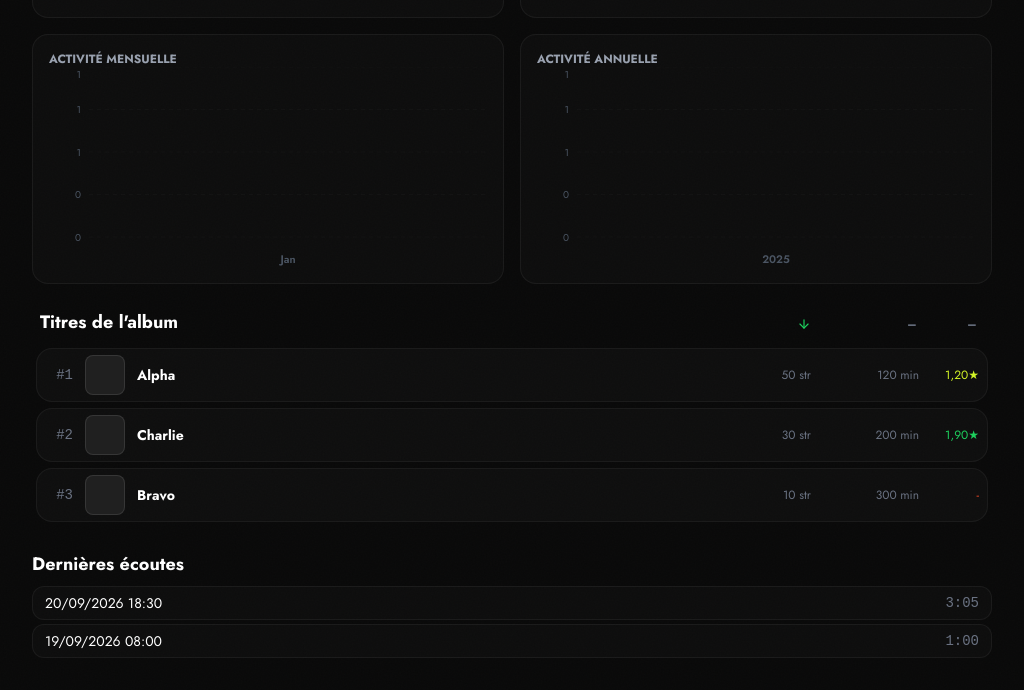
ItemDetailPage – listes › tri des listes › un autre tri remet le bouton précédent à un tiret
(page scrolled)
Step 1. Click the button named "Trier par temps d'écoute" → (912, 324), box [900,312,924,336]
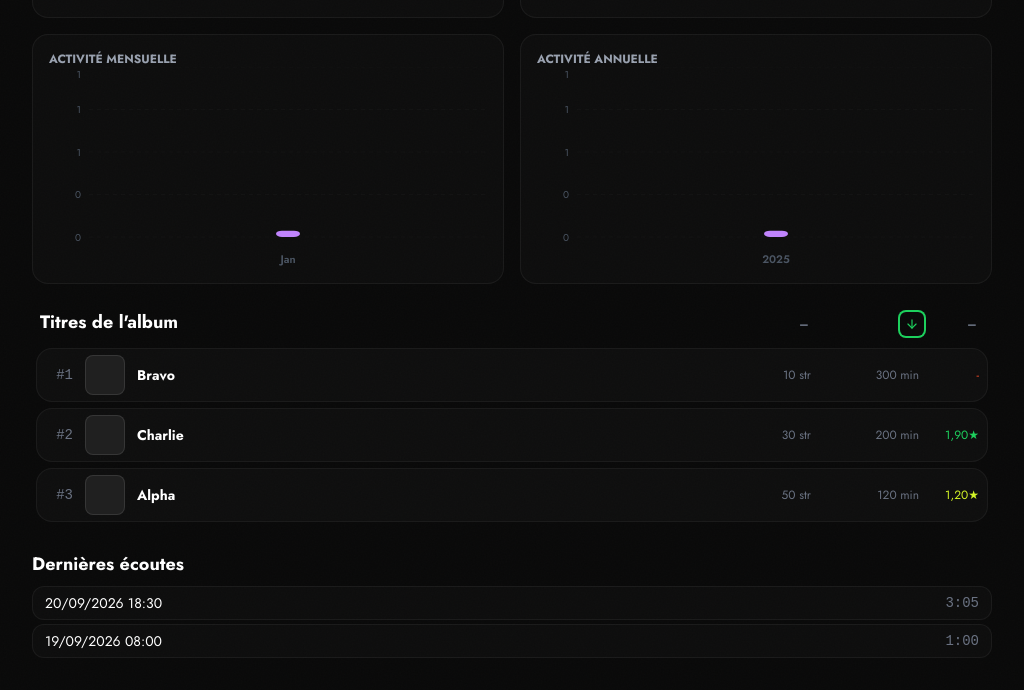
Step 2. Click the button named "Trier par rating" → (972, 324), box [960,312,984,336]
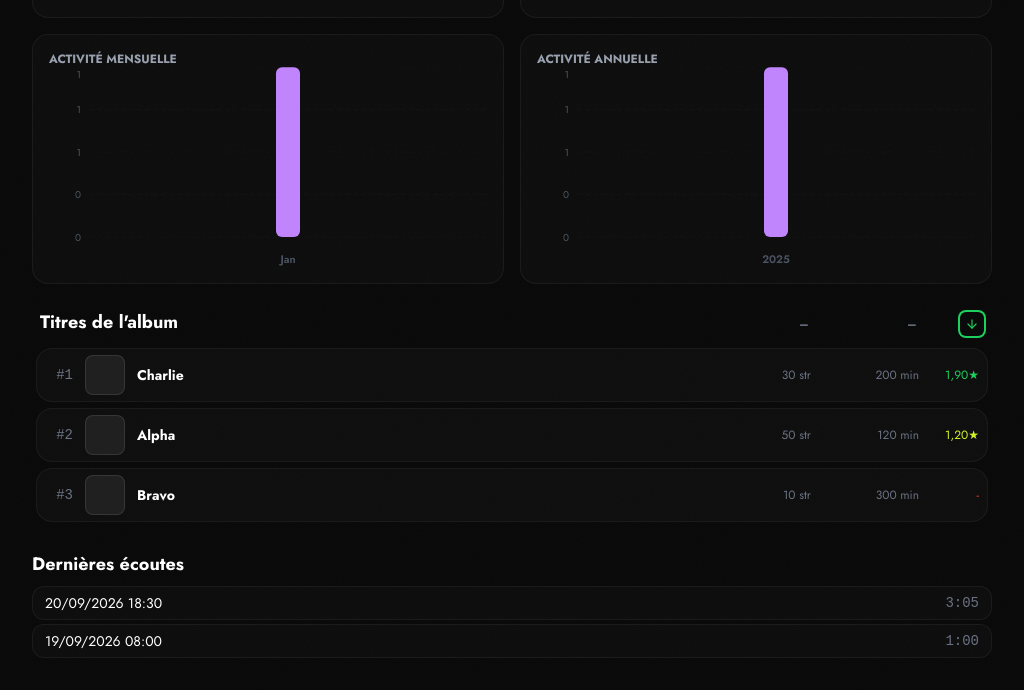
Check: the buttons read "–", "–", "", in this order, box [792,312,816,336]; [900,312,924,336]; [960,312,984,336]
